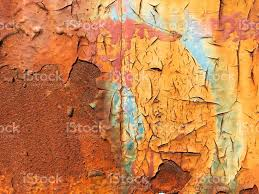rust: (2, 2, 135, 193), (137, 157, 194, 194)
